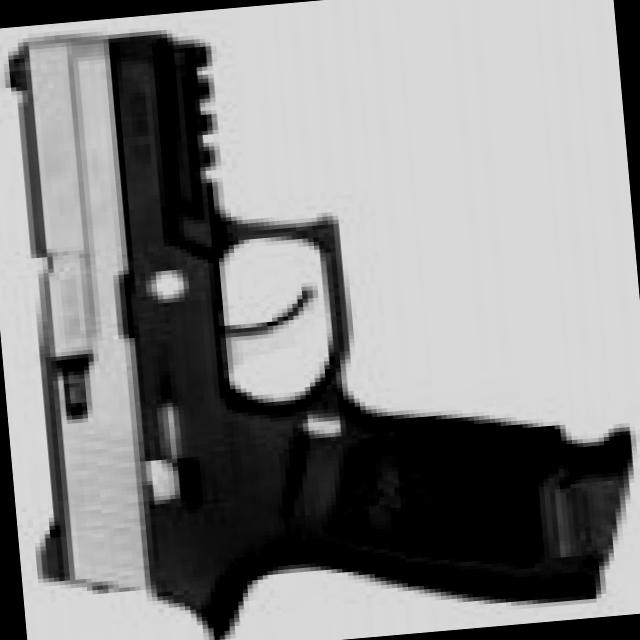handgun: (0, 1, 620, 639)
